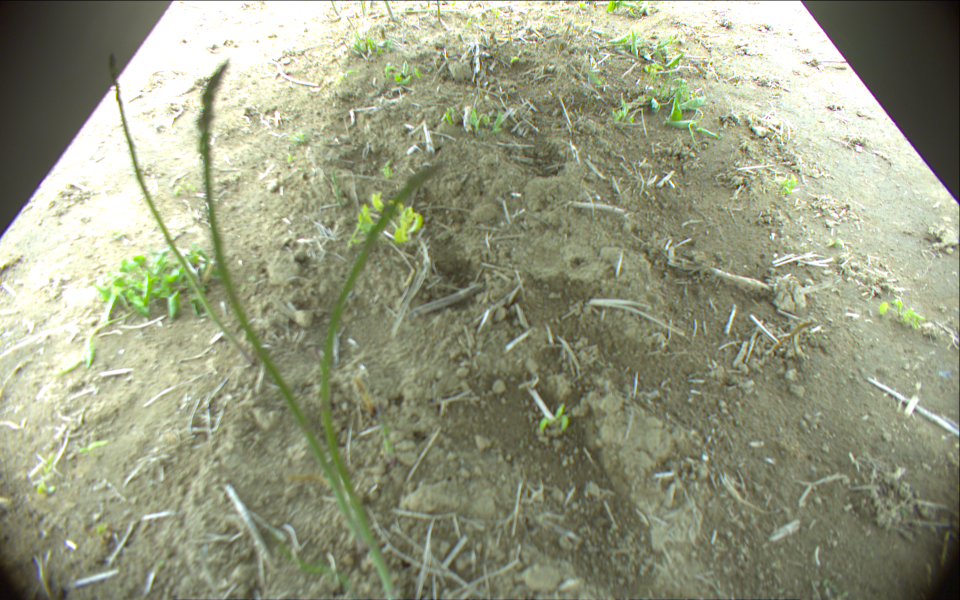aspa: (199, 58, 363, 547), (319, 163, 447, 600), (107, 51, 252, 364), (369, 9, 455, 19), (384, 1, 396, 22), (327, 1, 340, 18), (358, 1, 367, 18), (435, 1, 441, 21)
